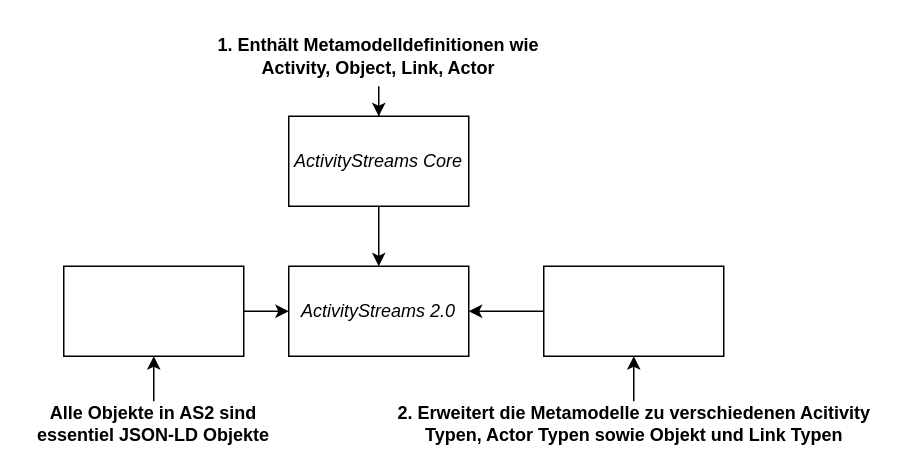
Image size: 911x471. Some labels were removed from this diagram. Here are the shapes that lost their labels. From the top down, the centre of each, then its label:
At (153,310): "JSON Linked Data".
At (633,310): "ActivityStreams Vocab".
